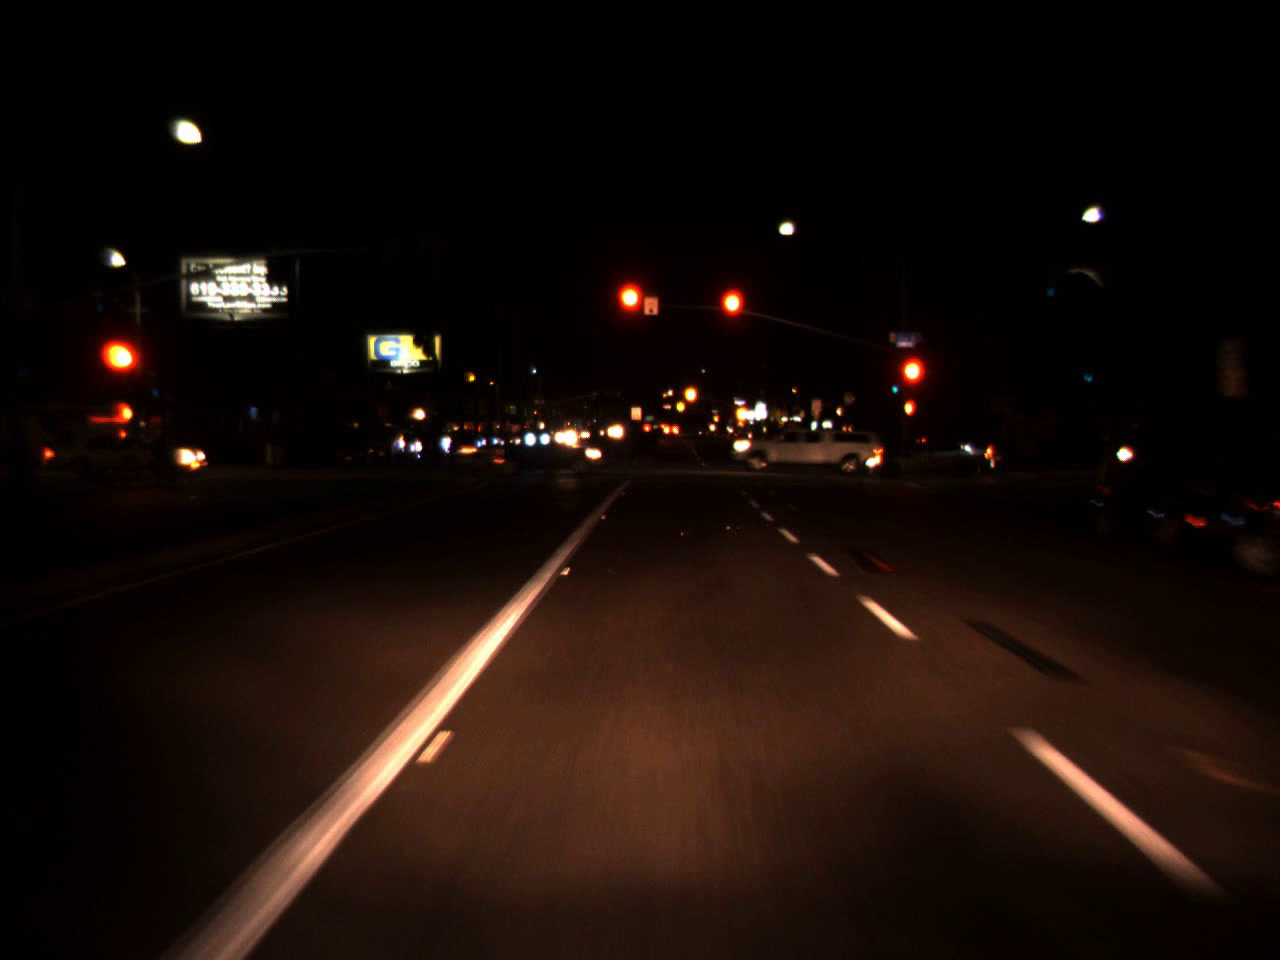stop: (101, 338, 144, 405), (613, 277, 647, 347), (896, 352, 929, 419), (716, 283, 747, 350)
warning: (682, 376, 700, 411), (732, 399, 750, 426), (675, 394, 685, 416), (713, 411, 719, 421)
